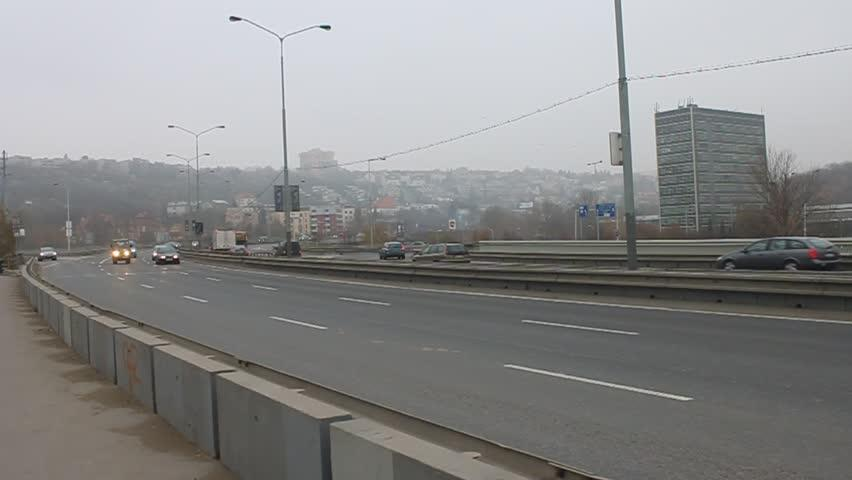bus: (207, 228, 236, 255), (110, 235, 132, 265), (120, 240, 139, 260)
car: (715, 237, 841, 271), (412, 243, 472, 266), (155, 245, 181, 265), (378, 242, 406, 260), (276, 241, 302, 259), (151, 244, 172, 261), (228, 245, 250, 259), (37, 247, 57, 261)
